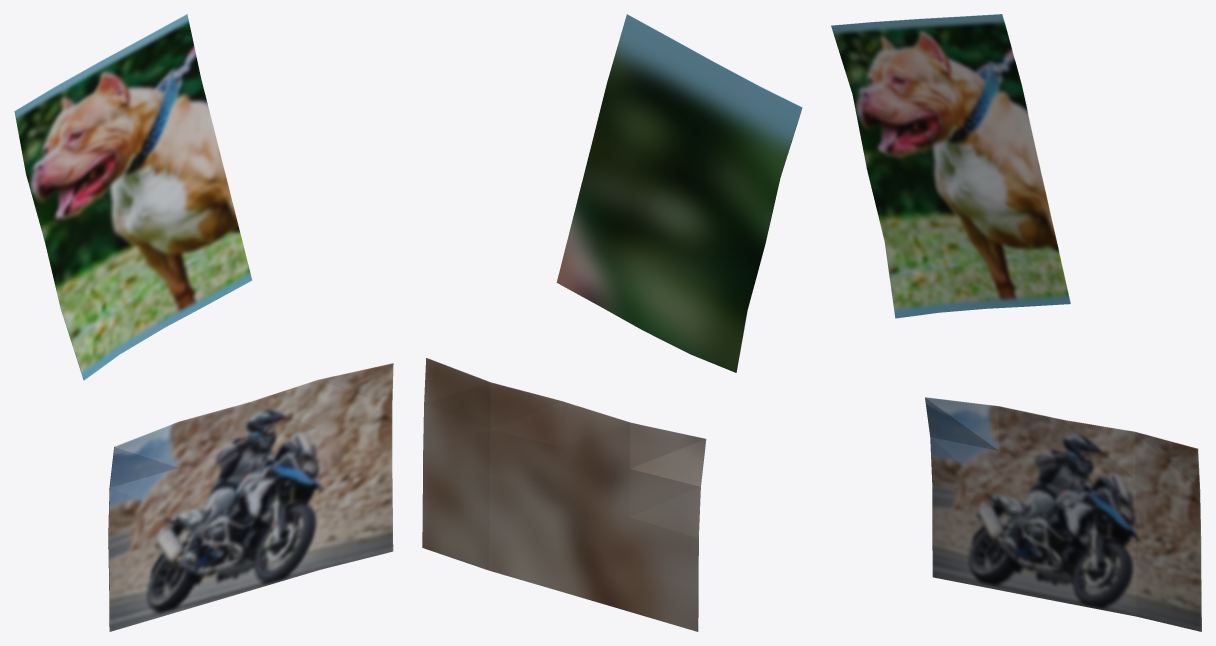
File: Photos.FBX
3 renders of one model, left to right at view 1: azimuth 30°, elevation 25°; view 2: azimuth 150°, elevation 25°; view 3: azimuth 330°, elevation 25°, orthographic. The views are drawn at different scales.
Visible parts, largest first — view 1: photos; view 2: photos; view 3: photos.
Part boxes in pixels (left/top/right/bottom): photos: left=14, top=14, right=393, bottom=631; photos: left=422, top=14, right=802, bottom=631; photos: left=831, top=14, right=1201, bottom=631.
Bounding box in the file's own units: 17.55 × 26.52 × 0.5746.
Materials: 1 (1 with a texture image).
